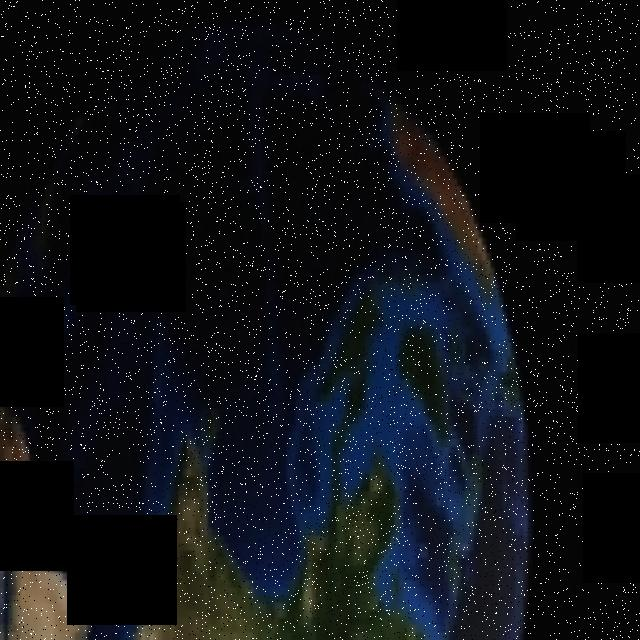Earth: (0, 22, 532, 640)
